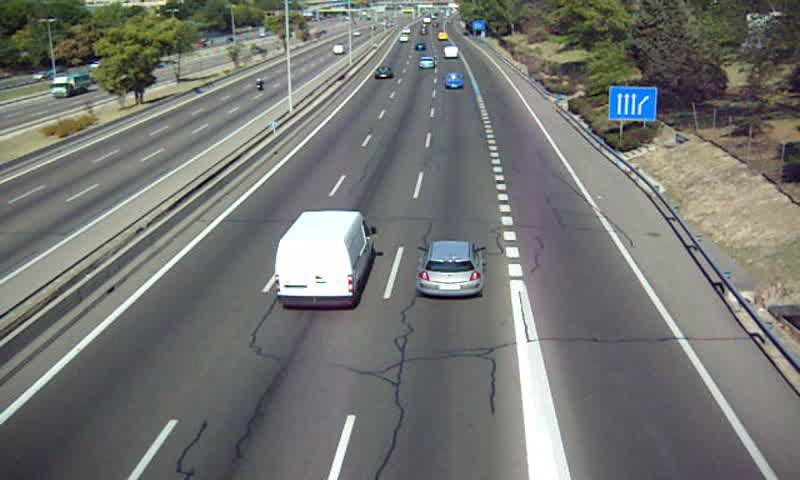car: (418, 240, 484, 297), (444, 71, 464, 89), (372, 67, 395, 81), (418, 56, 435, 70)
van: (276, 211, 374, 310)
